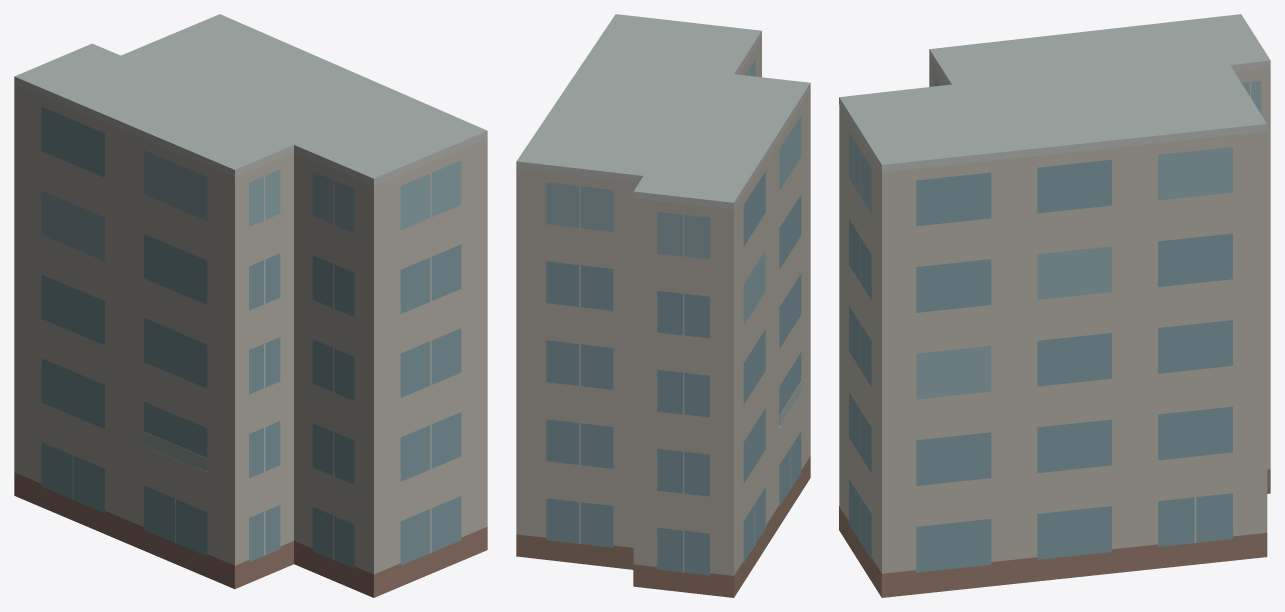
The model's file is survey-upis-32713721.glb.
3 renders of one model, left to right at view 1: azimuth 30°, elevation 25°; view 2: azimuth 150°, elevation 25°; view 3: azimuth 270°, elevation 25°, orthographic. The views are drawn at different scales.
Visible parts, largest first — view 1: survey-upis-32713721.tmp; view 2: survey-upis-32713721.tmp; view 3: survey-upis-32713721.tmp.
Part boxes in pixels (x1,y1,x2,y2): survey-upis-32713721.tmp: (14, 14, 487, 597); survey-upis-32713721.tmp: (516, 14, 810, 597); survey-upis-32713721.tmp: (839, 14, 1270, 597).
Bounding box in the file's own units: 10.7 × 14.3 × 12.93.
